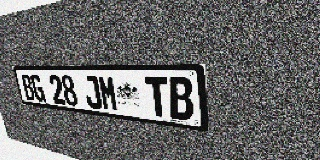2: (48, 75, 66, 105)
8: (60, 75, 78, 106)
B: (167, 77, 194, 121), (20, 74, 36, 101)
G: (30, 74, 46, 102)
J: (82, 75, 103, 110)
M: (97, 75, 119, 112)
T: (145, 76, 170, 118)
